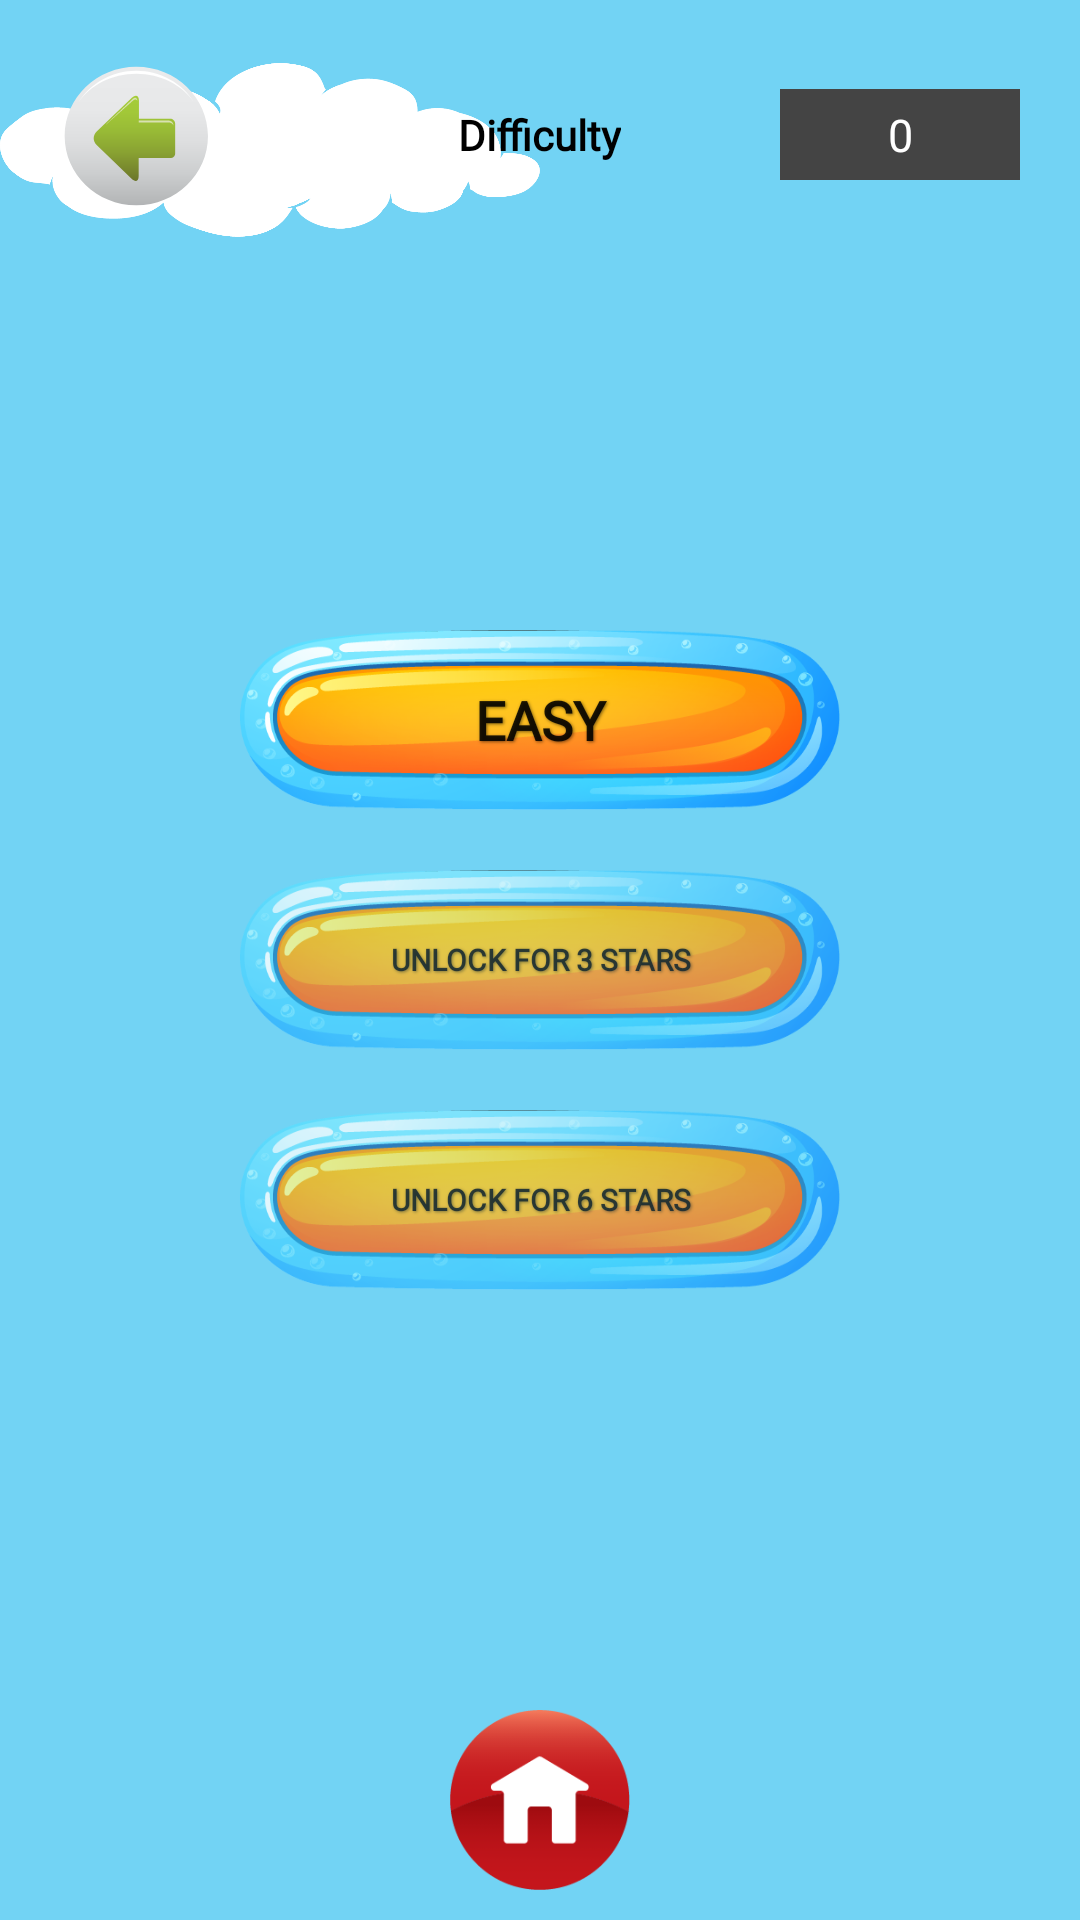

Icon bounding boxes for this 1080px×1920px phone screenshot, format (x1,y1,x2,y2):
home: (450,1710,630,1890)
